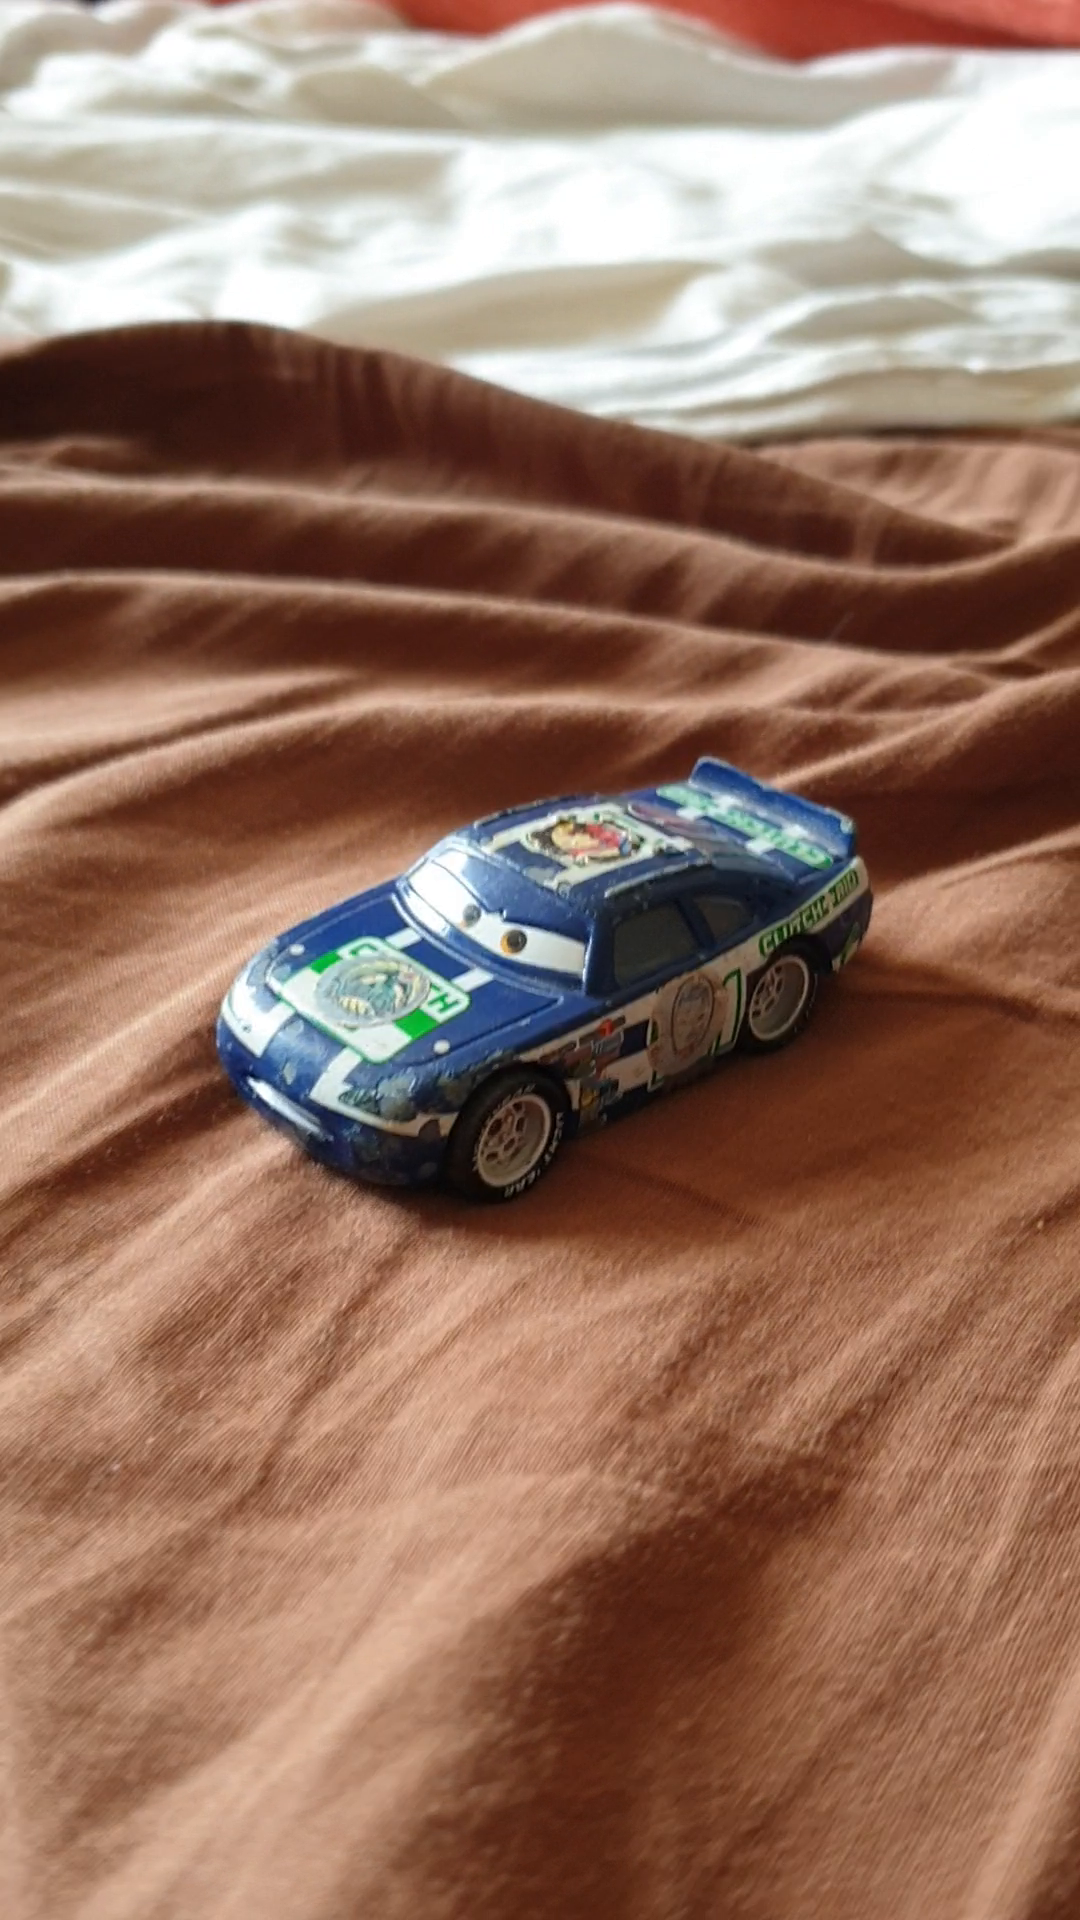cars: (211, 738, 872, 1203)
